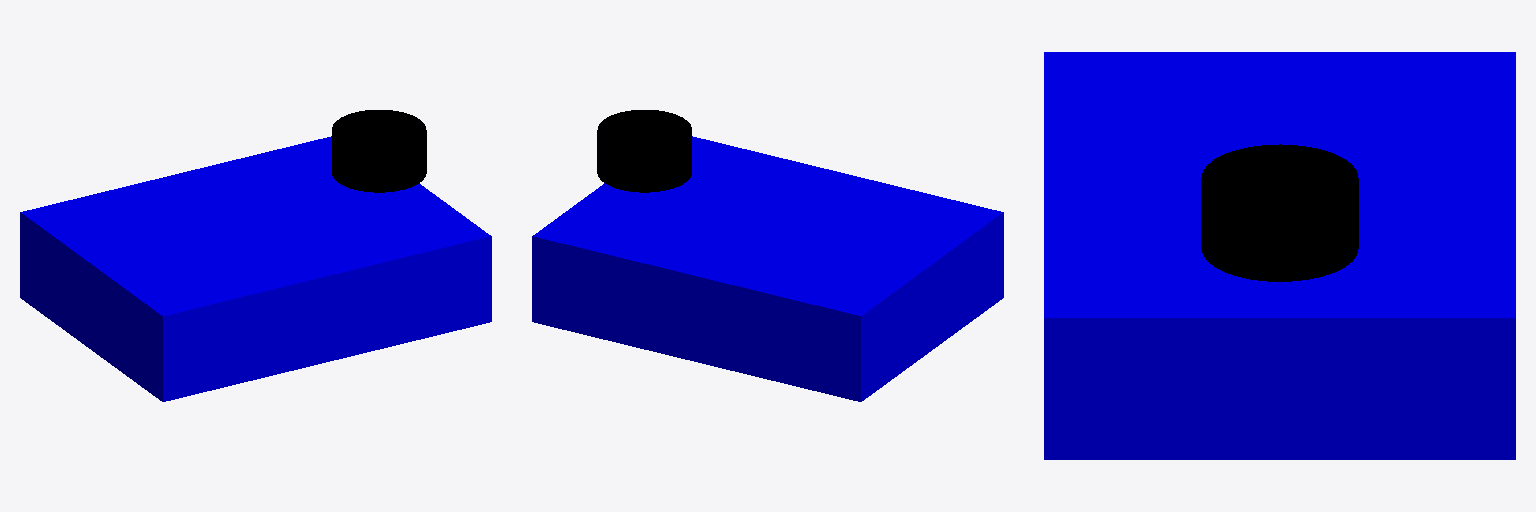
URDF robot description (my_mobile_robot):
<?xml version="1.0"?>

<robot name="my_mobile_robot">

  <!-- Base -->
  <link name="base_link">
    <visual>
      <geometry>
        <box size="0.4 0.3 0.1"/>
      </geometry>
      <material name="blue">
        <color rgba="0 0 1 1"/>
      </material>
    </visual>
  </link>

  <!-- Camera -->
  <link name="camera">
    <visual>
      <geometry>
        <cylinder length="0.05" radius="0.05"/>
      </geometry>
      <material name="black">
        <color rgba="0 0 0 1"/>
      </material>
    </visual>
  </link>

  <joint name="base_camera_joint" type="fixed">
    <parent link="base_link"/>
    <child link="camera"/>
    <origin xyz="0.15 0 0.1" rpy="0 0 0"/>
  </joint>

</robot>

--- Facts derived from the render (not from the file) ---
3 views of the same robot in one strip: view 1: azimuth 30°, elevation 25°; view 2: azimuth 150°, elevation 25°; view 3: azimuth 270°, elevation 25° (orthographic).
Model my_mobile_robot with 2 links and 1 joints (1 fixed), rooted at base_link, posed all joints at 0.
Links seen in each view (by area): view 1: base_link, camera; view 2: base_link, camera; view 3: base_link, camera.
Link boxes in pixels (x1,y1,x2,y2): base_link: (20,136,491,401); camera: (332,110,426,192); base_link: (532,136,1003,401); camera: (597,110,691,192); base_link: (1044,52,1515,459); camera: (1201,144,1358,281).
Size in the robot's own frame: 0.4 by 0.3 by 0.175 metres.
Geometry: primitives only (box / cylinder / sphere), no mesh files.
